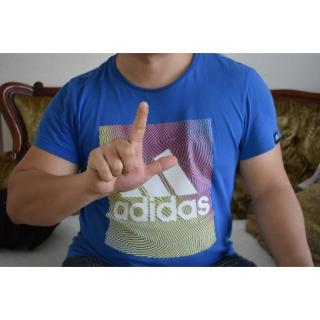LAAM: (82, 95, 182, 200)
